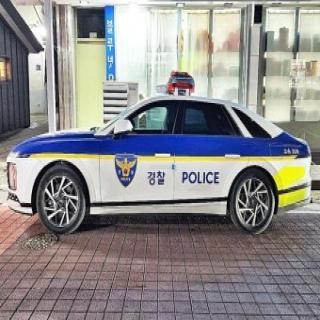Police_car: (5, 72, 312, 235)
